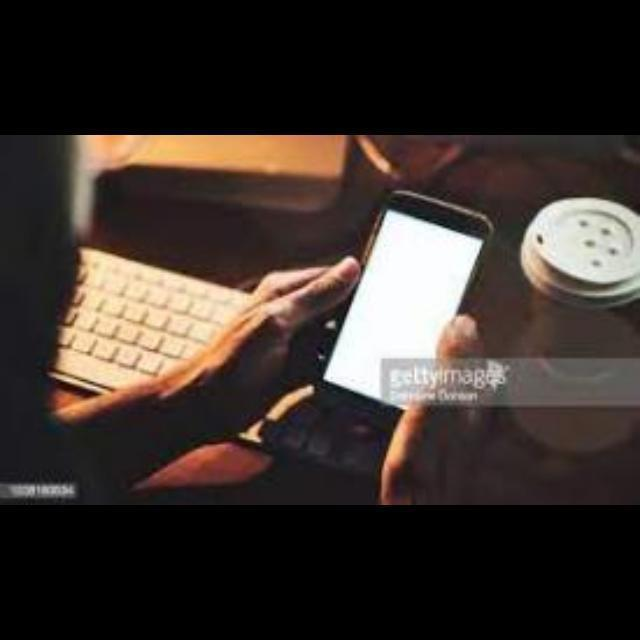phone: (263, 185, 557, 450)
